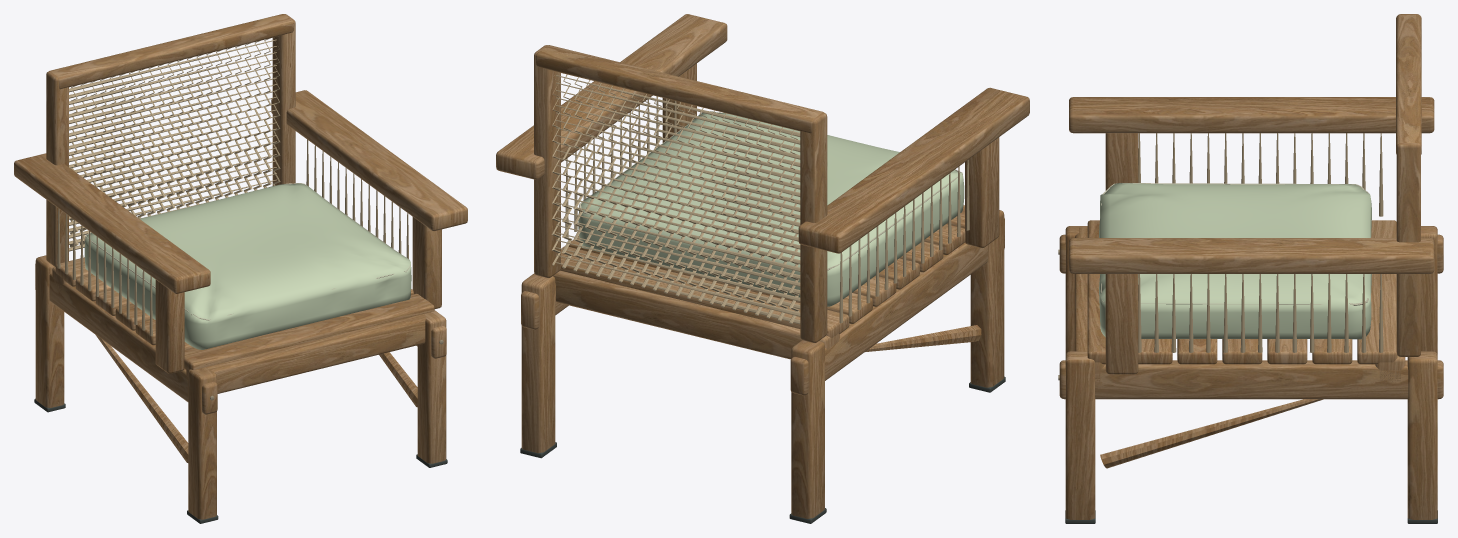
The model's file is woven-patio-chair.glb.
3 renders of one model, left to right at view 1: azimuth 30°, elevation 25°; view 2: azimuth 150°, elevation 25°; view 3: azimuth 270°, elevation 25°, orthographic. The views are drawn at different scales.
Parts seen in each view (by area): view 1: catalog_surface_RealismUV; view 2: catalog_surface_RealismUV; view 3: catalog_surface_RealismUV.
Part boxes in pixels (x1=…): catalog_surface_RealismUV: x1=14, y1=14, x2=467, y2=523; catalog_surface_RealismUV: x1=496, y1=14, x2=1029, y2=523; catalog_surface_RealismUV: x1=1058, y1=14, x2=1443, y2=523.
Size of the model in its own units: 0.84 by 0.92 by 0.85.
Materials: 6 (1 with a texture image).
